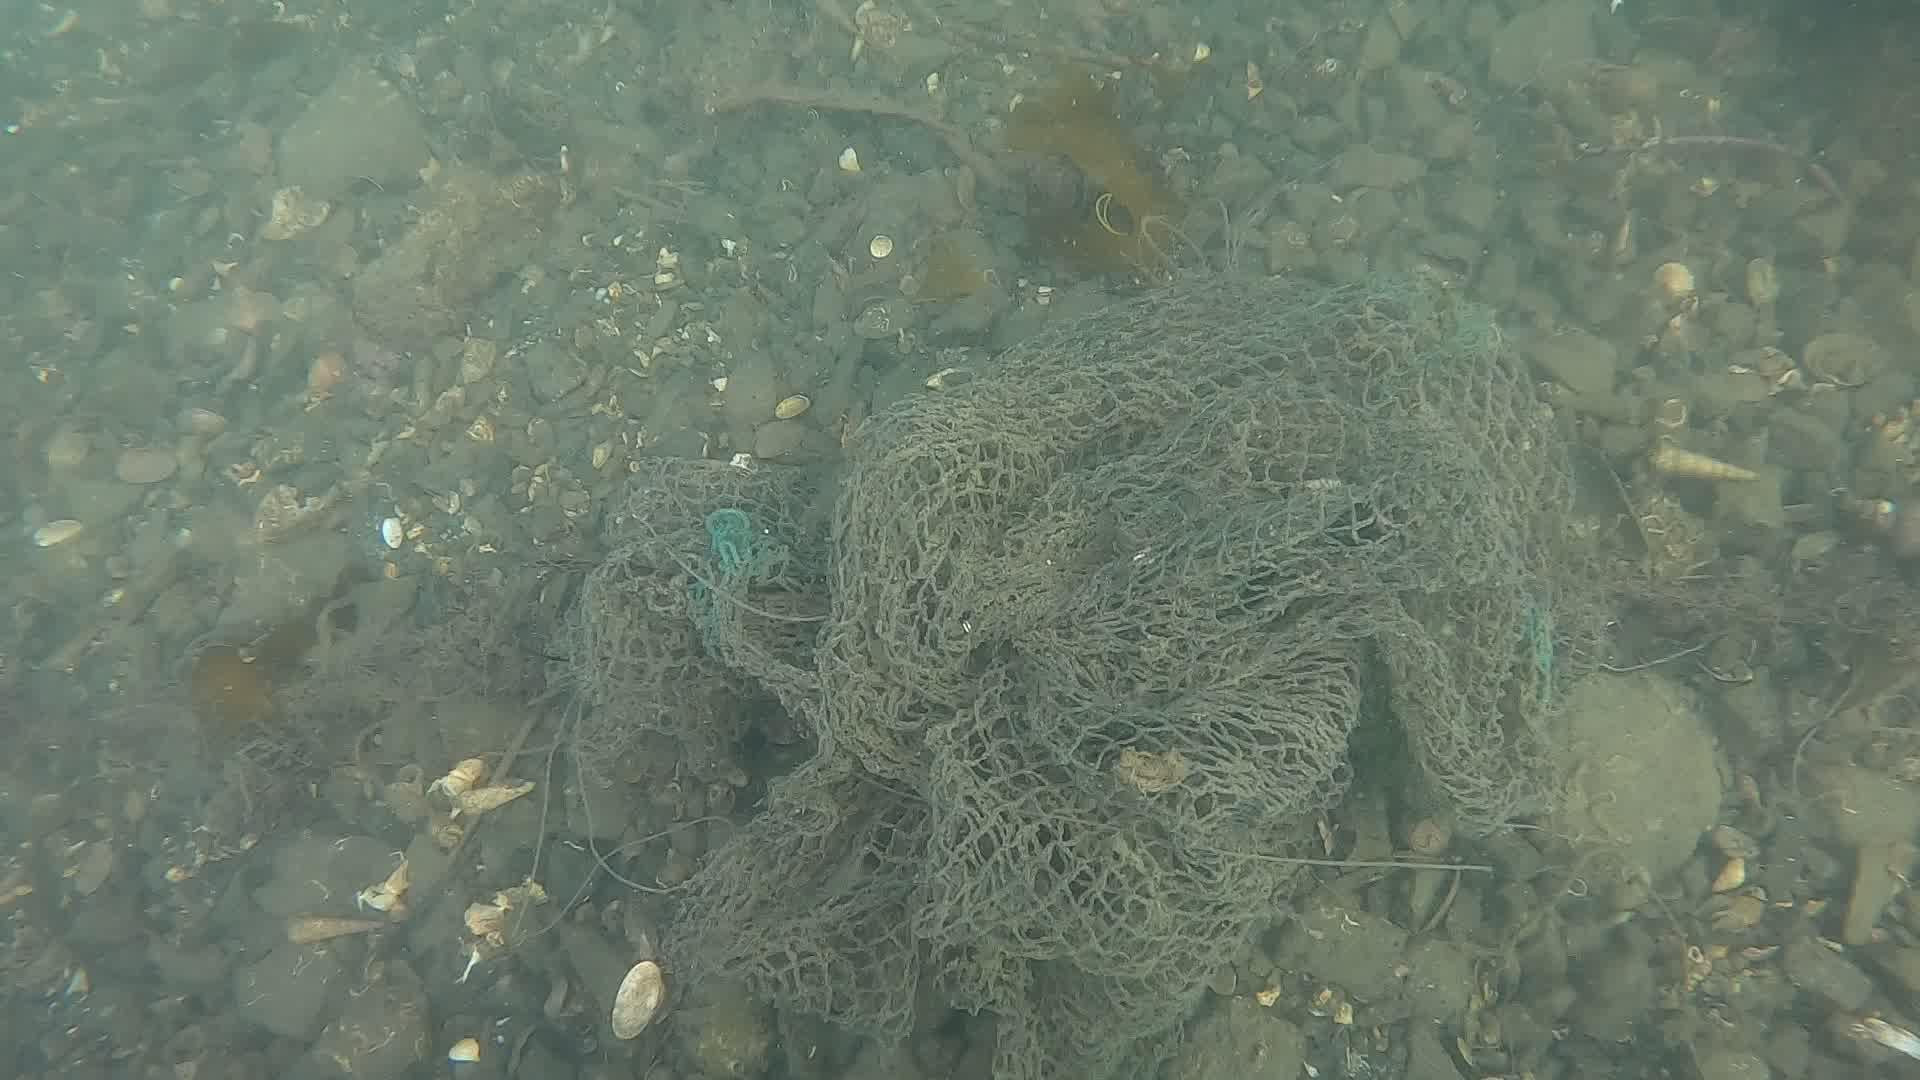fish net: (591, 289, 1578, 1038)
